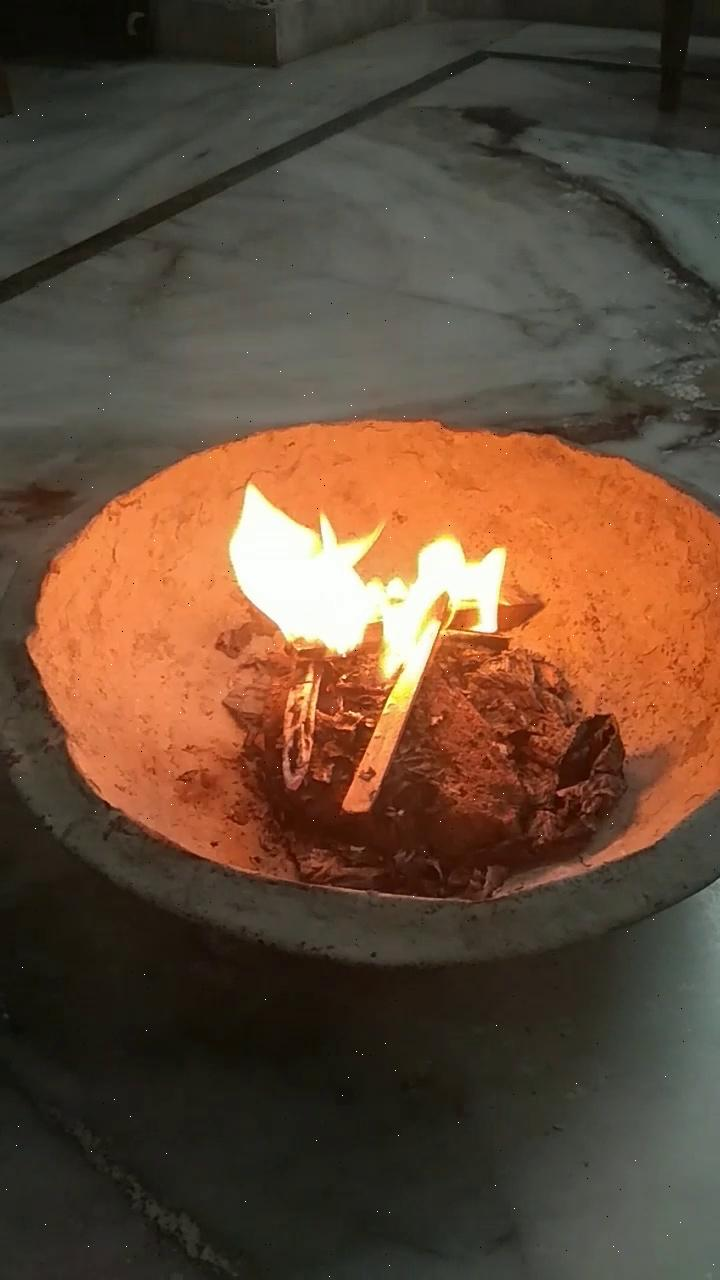fire: (183, 433, 512, 665)
